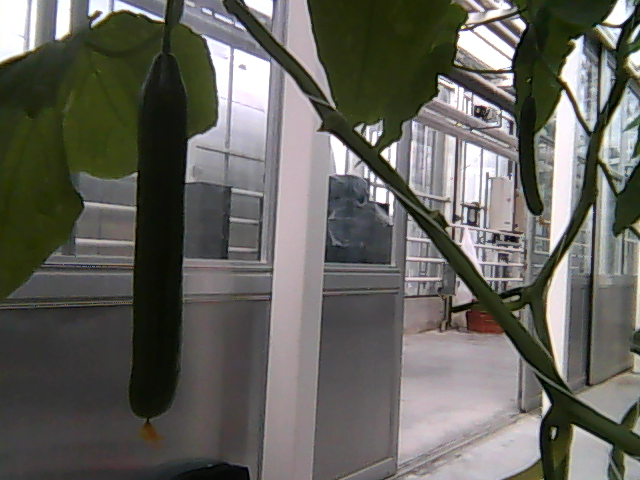concombre: (126, 43, 193, 446)
